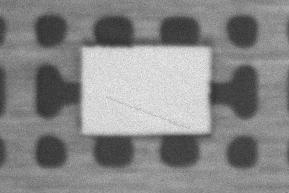DIE_CRACK: (159, 65, 283, 85)
